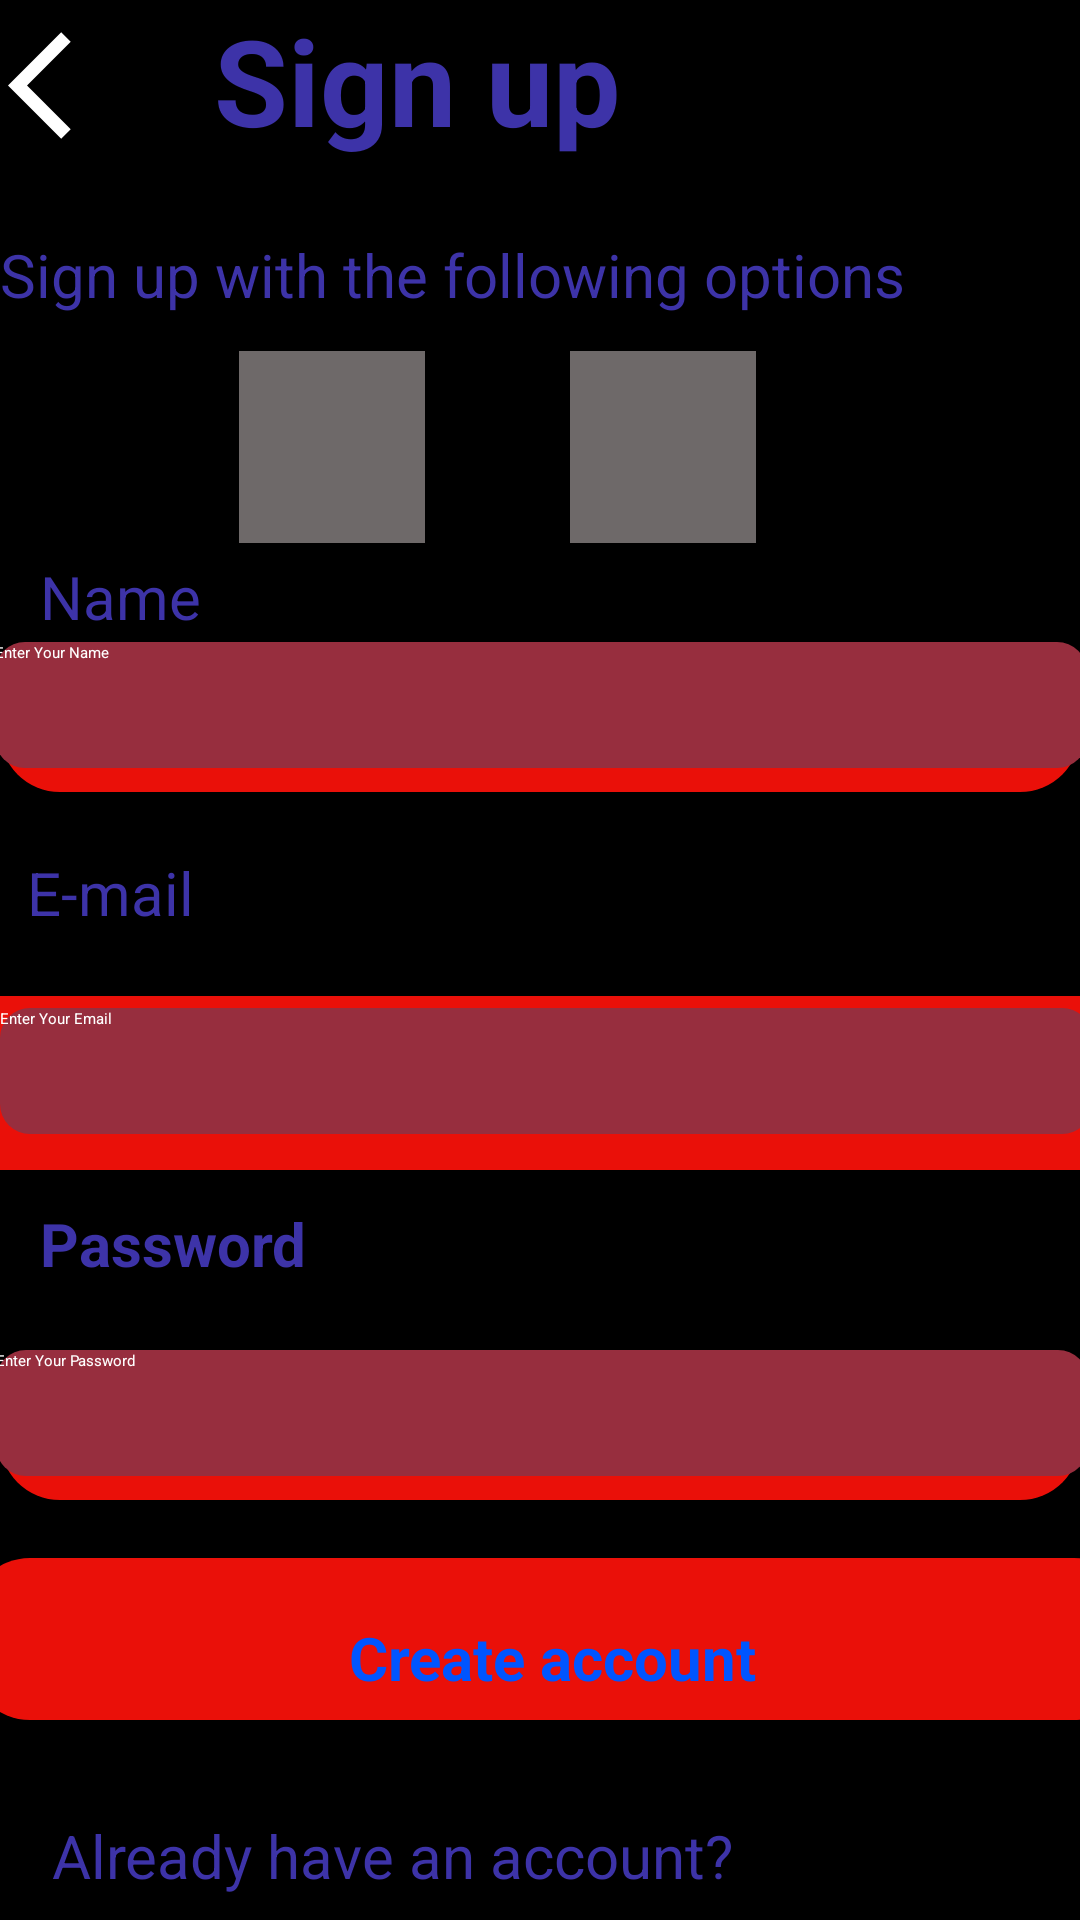

Where icons sit on this 1080px×1920px app screen, as (x1, y1, x2, y2):
arrow back: (8, 32, 71, 139)
